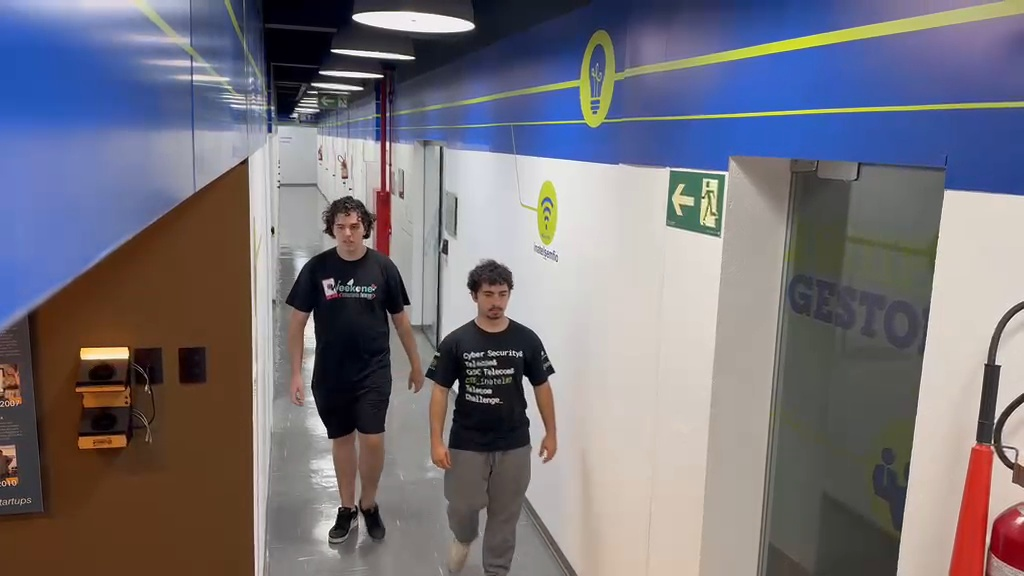person: (284, 194, 429, 544), (422, 259, 559, 574)
